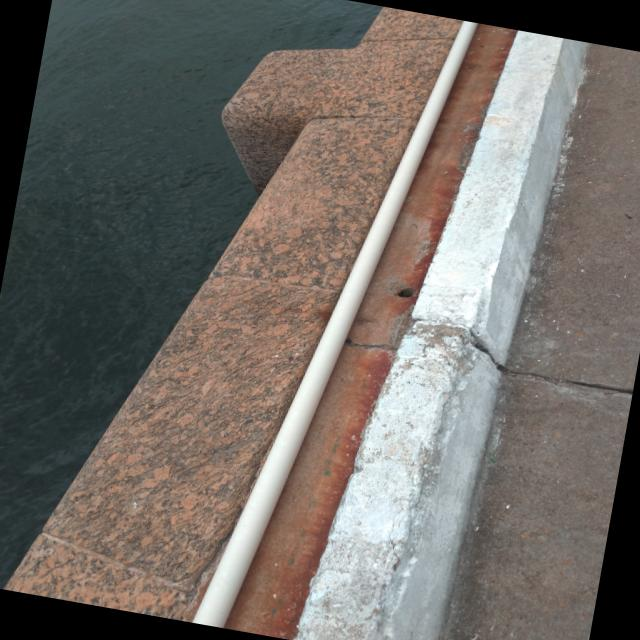gas: (186, 21, 480, 627)
